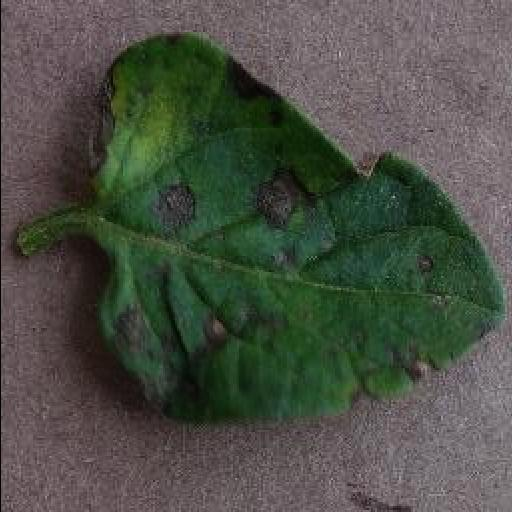disease_tomato: (81, 32, 503, 422)
